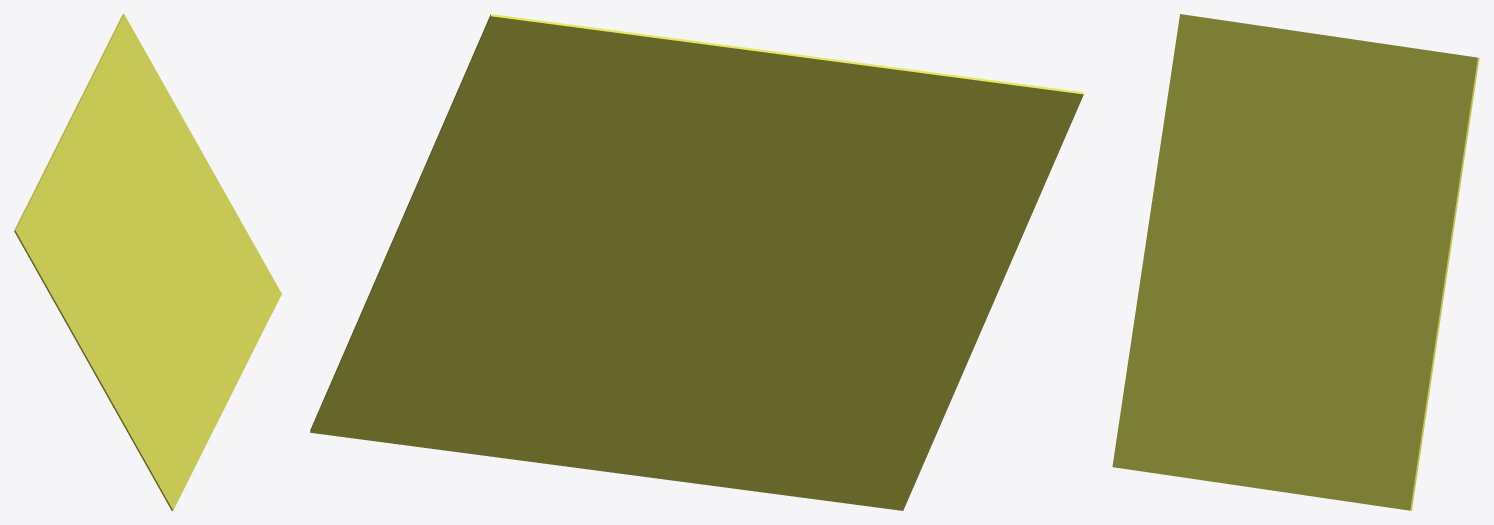
3 renders of one model, left to right at view 1: azimuth 30°, elevation 25°; view 2: azimuth 150°, elevation 25°; view 3: azimuth 270°, elevation 25°, orthographic. The views are drawn at different scales.
Parts seen in each view (by area): view 1: Плоскость.001; view 2: Плоскость.001; view 3: Плоскость.001.
Part boxes in pixels (x1,y1,x2,y2): Плоскость.001: [14, 14, 281, 510]; Плоскость.001: [310, 14, 1083, 510]; Плоскость.001: [1112, 14, 1479, 510].
Size of the model in its own units: 3.16 by 3.11 by 2.21.
